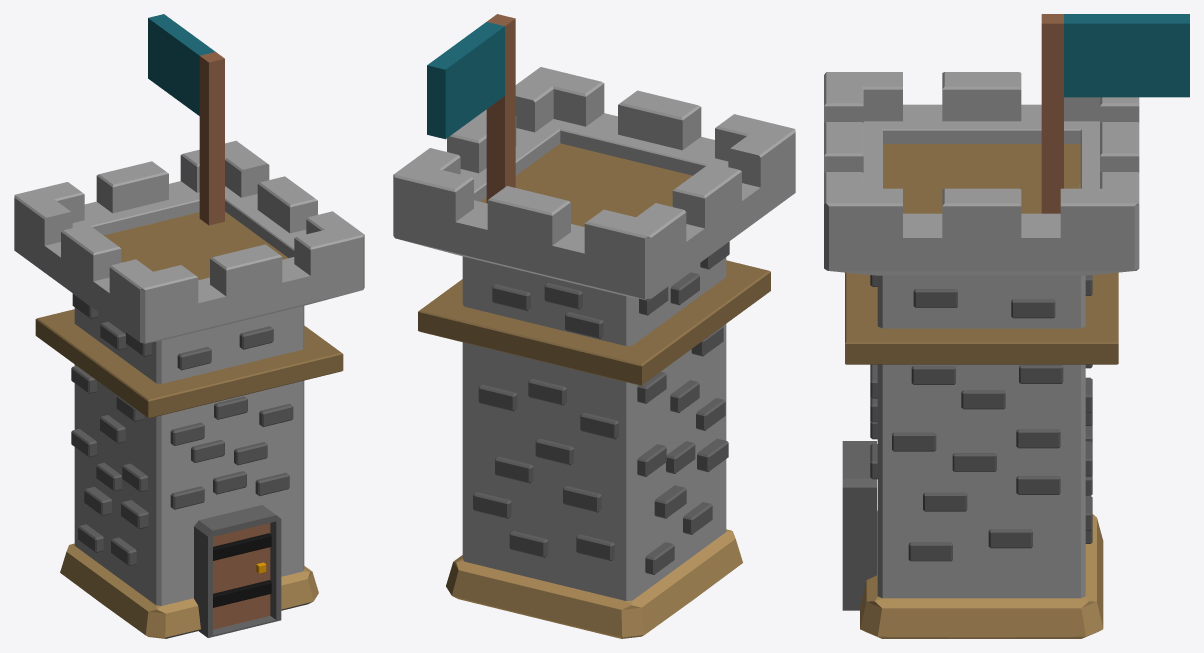
File: Tower.fbx
3 views of the same model, side by side, from view 1: azimuth 30°, elevation 25°; view 2: azimuth 150°, elevation 25°; view 3: azimuth 270°, elevation 25° (orthographic). The views are drawn at different scales.
Visible parts, largest first — view 1: Tower; view 2: Tower; view 3: Tower.
Part boxes in pixels (x1=…): Tower: x1=14, y1=14, x2=364, y2=638; Tower: x1=393, y1=14, x2=795, y2=638; Tower: x1=824, y1=14, x2=1189, y2=638.
Bounding box in the file's own units: 199 × 419 × 231.
Materials: 3 (1 with a texture image).
